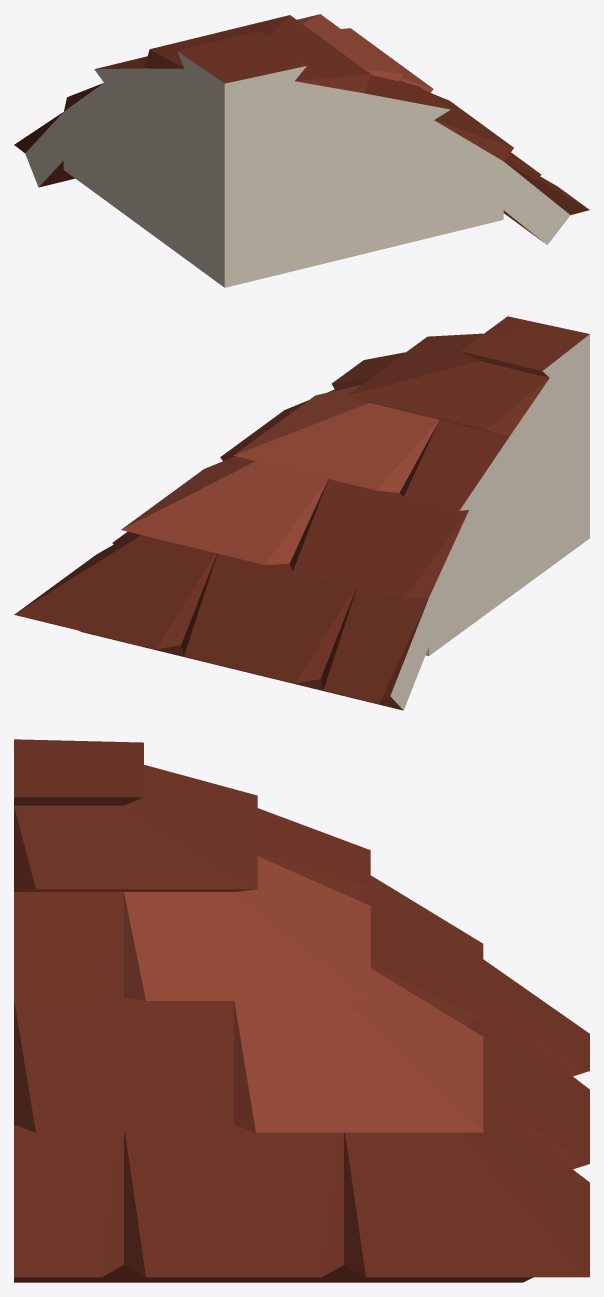
The model's file is Roof_Convex_Corner_Outer_Eave.obj.
The picture shows the model from 3 angles, top to bottom: view 1: azimuth 30°, elevation 25°; view 2: azimuth 150°, elevation 25°; view 3: azimuth 270°, elevation 25°; orthographic projection. The views are drawn at different scales.
Visible parts, largest first — view 1: object1; view 2: object1; view 3: object1.
Part boxes in pixels (bbox=[...]): object1: bbox=[14, 14, 589, 287]; object1: bbox=[14, 316, 589, 710]; object1: bbox=[14, 739, 589, 1282].
Bounding box in the file's own units: 1.31 × 0.8233 × 1.31.
